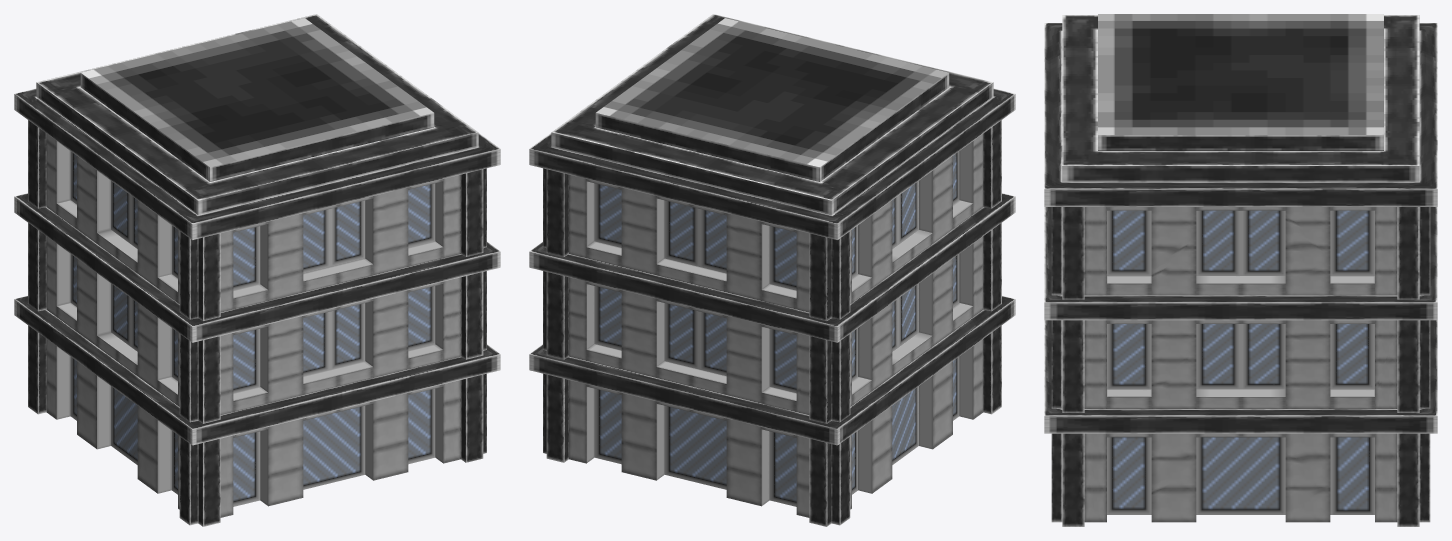
The model's file is GashunBuilding - Copy.fbx.
3 renders of one model, left to right at view 1: azimuth 30°, elevation 25°; view 2: azimuth 150°, elevation 25°; view 3: azimuth 270°, elevation 25°, orthographic. The views are drawn at different scales.
Visible parts, largest first — view 1: Plane; view 2: Plane; view 3: Plane.
Part boxes in pixels (box(x1,y1,x2,y2)): Plane: box(14, 14, 500, 526); Plane: box(529, 14, 1015, 526); Plane: box(1044, 14, 1437, 526).
Size of the model in its own units: 11 by 11.5 by 11.
1 material, 1 textured.
